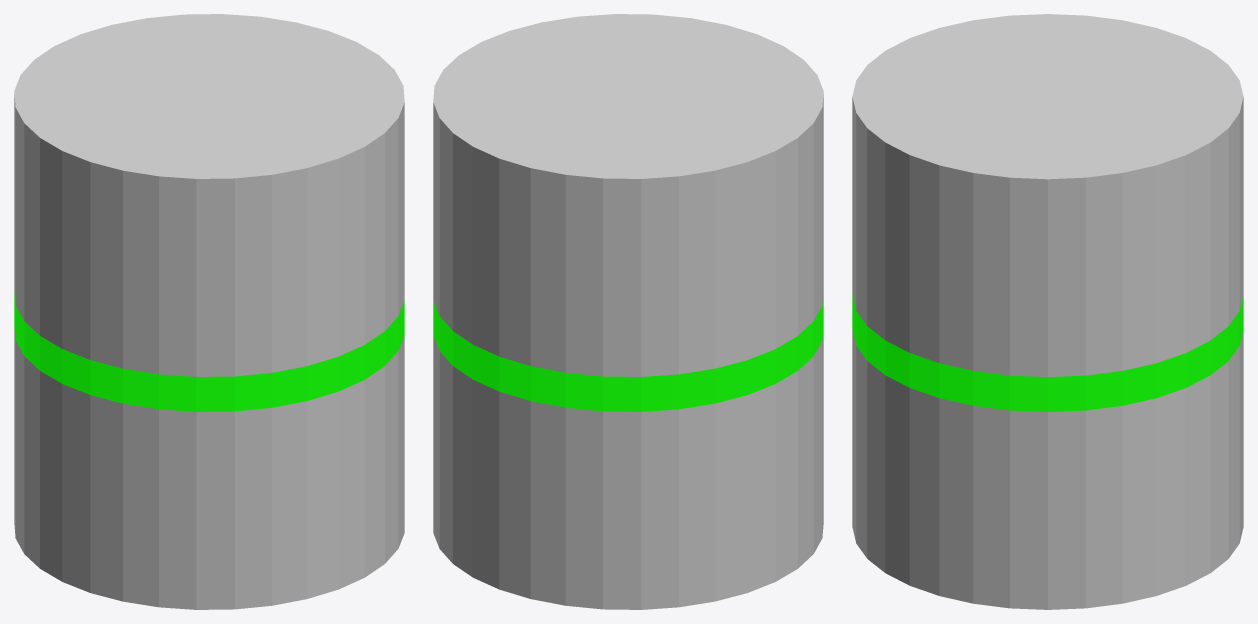
The model's file is CHek Poin TutorialV2.fbx.
The picture shows the model from 3 angles, left to right: view 1: azimuth 30°, elevation 25°; view 2: azimuth 150°, elevation 25°; view 3: azimuth 270°, elevation 25°; orthographic projection.
Parts seen in each view (by area): view 1: F Chek Poin; view 2: F Chek Poin; view 3: F Chek Poin.
Boxes of the visible parts, x1,y1,x2,y2 form: F Chek Poin: (14,14,404,609); F Chek Poin: (433,14,823,609); F Chek Poin: (852,14,1243,609).
Bounding box in the file's own units: 106 × 129 × 106.
